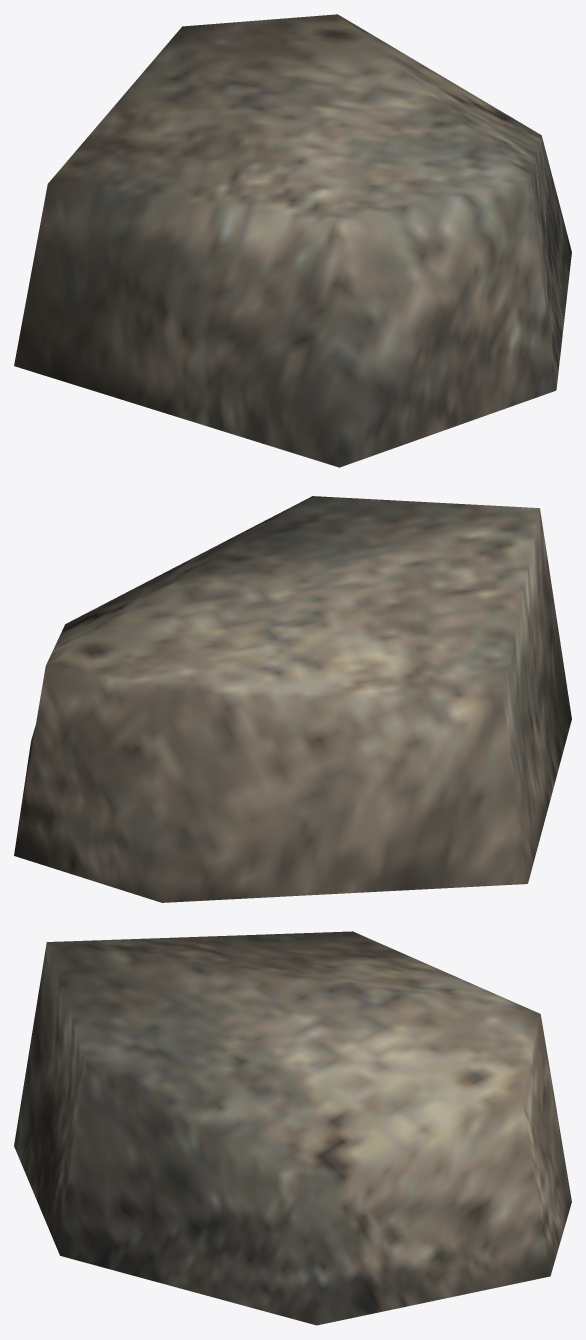
Rendered from SC_yonghengsenlin_shitou07.FBX.
3 views of the same model, one above another, from view 1: azimuth 30°, elevation 25°; view 2: azimuth 150°, elevation 25°; view 3: azimuth 270°, elevation 25° (orthographic). The views are drawn at different scales.
Parts seen in each view (by area): view 1: SC_yonghengsenlin_shitou07; view 2: SC_yonghengsenlin_shitou07; view 3: SC_yonghengsenlin_shitou07.
Part boxes in pixels (x1,y1,x2,y2): SC_yonghengsenlin_shitou07: (14,14,571,467); SC_yonghengsenlin_shitou07: (14,496,571,902); SC_yonghengsenlin_shitou07: (14,931,571,1325).
Size of the model in its own units: 121 by 49.15 by 118.
